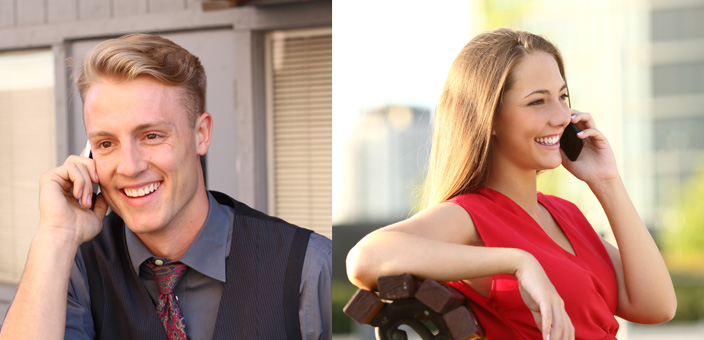phone: (42, 139, 109, 224), (562, 106, 610, 173)
talk: (34, 117, 187, 239), (518, 78, 623, 194)
